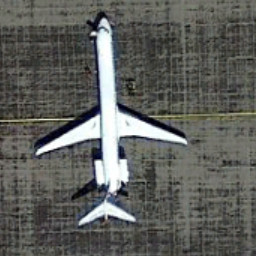Airplane: (21, 8, 194, 237)
